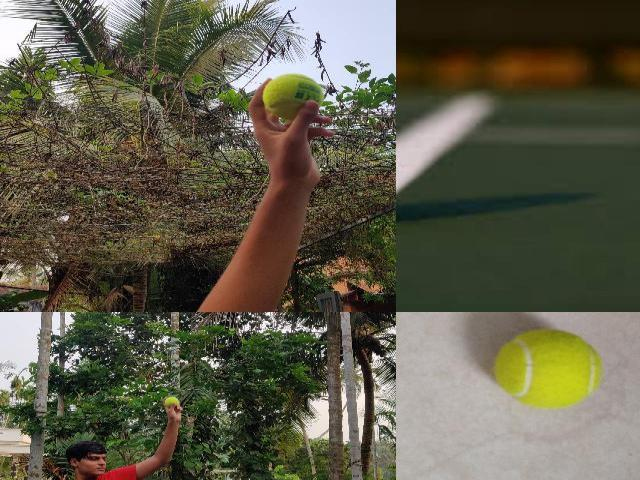tennis-ball: (493, 328, 602, 410), (262, 74, 324, 120), (164, 397, 178, 407)
